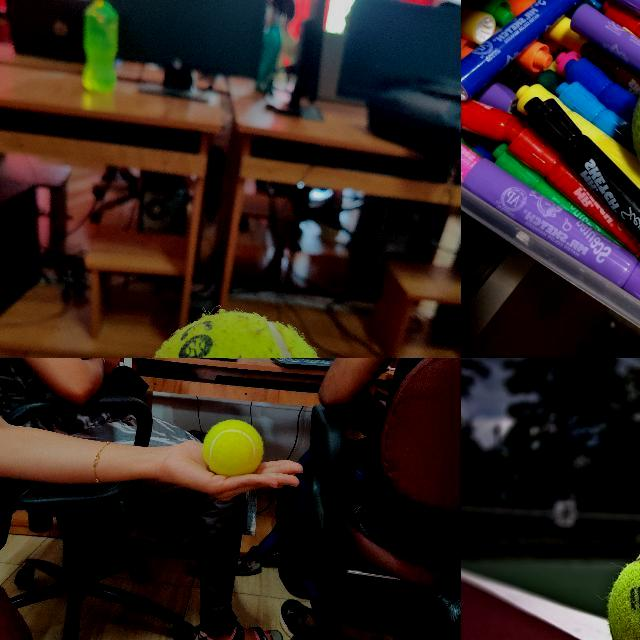Tennis Ball: (136, 312, 338, 357), (204, 420, 264, 473)
